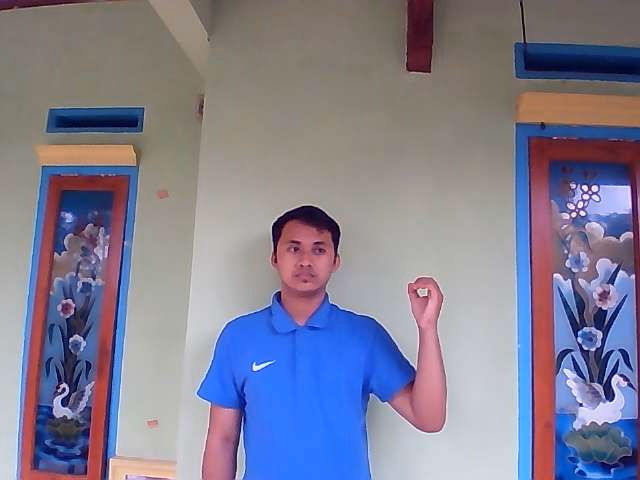O: (407, 275, 443, 327)
